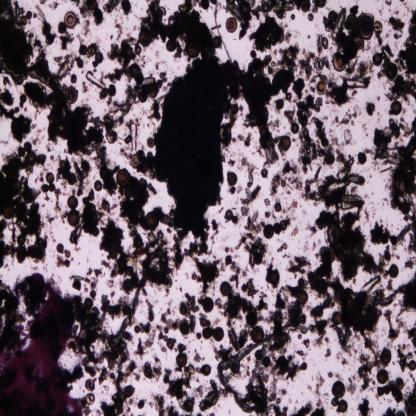Background material: (307, 211, 385, 334), (307, 259, 386, 334), (140, 0, 223, 69), (227, 54, 278, 166), (0, 147, 49, 261), (43, 77, 108, 160), (370, 118, 416, 233), (0, 0, 52, 78), (168, 204, 223, 271), (97, 213, 139, 292), (70, 296, 107, 379), (291, 95, 330, 168), (136, 232, 178, 298), (352, 328, 386, 395), (335, 28, 375, 84), (0, 278, 29, 348), (163, 361, 199, 415), (377, 274, 416, 322), (117, 174, 147, 234), (269, 42, 300, 98), (328, 128, 360, 182), (366, 214, 416, 248), (257, 369, 292, 416), (245, 14, 289, 50), (384, 272, 416, 320), (98, 378, 136, 416), (268, 160, 304, 199), (380, 378, 416, 416), (0, 104, 34, 143), (105, 39, 135, 83), (107, 82, 135, 127), (217, 294, 259, 324), (274, 292, 307, 330), (226, 0, 258, 39), (305, 164, 331, 210), (193, 259, 220, 300), (220, 242, 244, 288), (240, 234, 270, 269), (322, 70, 352, 105), (91, 159, 122, 192), (82, 187, 102, 238), (332, 326, 356, 368), (22, 81, 50, 115), (72, 155, 94, 197), (0, 240, 31, 269), (199, 381, 225, 414), (135, 323, 164, 352), (258, 0, 298, 21), (115, 342, 139, 376), (383, 307, 406, 342), (399, 34, 416, 81), (273, 356, 309, 378), (373, 33, 395, 68), (178, 289, 197, 329), (135, 146, 157, 179), (125, 217, 144, 255), (241, 185, 265, 215), (78, 0, 105, 26), (257, 290, 277, 325), (149, 392, 178, 416), (277, 276, 306, 299), (332, 104, 362, 126), (141, 354, 164, 382), (374, 384, 403, 406), (108, 291, 132, 316), (312, 373, 331, 404), (265, 330, 293, 350), (314, 319, 332, 350), (82, 267, 104, 292), (292, 400, 326, 416), (240, 155, 256, 189), (244, 211, 267, 234), (286, 256, 312, 276), (396, 342, 412, 371), (353, 396, 376, 416), (221, 118, 236, 148), (405, 317, 416, 354), (55, 157, 71, 182), (303, 50, 316, 80), (149, 98, 163, 125), (283, 200, 298, 224), (42, 22, 56, 46), (385, 88, 406, 103), (70, 224, 83, 248), (77, 19, 90, 43), (293, 78, 307, 100), (100, 196, 117, 214), (159, 304, 176, 322), (0, 88, 15, 108), (391, 18, 403, 42), (230, 362, 246, 380), (361, 98, 377, 116), (60, 32, 74, 51), (143, 302, 156, 322), (103, 0, 120, 15), (232, 233, 246, 251), (35, 166, 49, 184), (54, 187, 63, 214), (315, 32, 326, 54), (112, 21, 126, 38), (403, 256, 416, 274), (0, 218, 10, 240), (347, 378, 358, 398), (192, 345, 204, 363), (209, 217, 220, 235), (85, 378, 98, 393), (284, 107, 295, 124), (120, 0, 131, 17), (244, 128, 253, 148), (195, 384, 206, 400), (277, 242, 290, 255), (329, 368, 343, 380), (118, 148, 133, 159), (306, 220, 317, 234), (246, 288, 260, 299), (58, 209, 68, 224), (348, 1, 360, 13), (149, 182, 158, 198), (14, 1, 24, 15), (127, 33, 138, 45), (48, 0, 61, 10), (107, 83, 116, 97), (44, 212, 54, 224), (100, 258, 110, 270), (292, 224, 300, 238), (409, 8, 416, 24), (324, 56, 331, 71), (2, 76, 12, 86), (228, 157, 238, 167), (11, 228, 17, 244), (63, 258, 72, 268), (324, 348, 332, 359), (228, 185, 236, 196), (286, 32, 292, 45), (135, 44, 142, 55), (195, 330, 202, 341), (162, 288, 171, 296), (68, 0, 80, 6), (44, 192, 52, 201), (382, 0, 392, 7), (60, 179, 67, 189), (139, 400, 146, 410), (50, 231, 56, 242), (46, 144, 54, 152), (70, 74, 78, 82), (82, 80, 87, 92), (155, 62, 161, 72), (32, 138, 39, 146), (92, 61, 100, 68), (26, 10, 32, 19), (38, 0, 48, 5), (30, 122, 37, 129), (134, 12, 140, 20), (140, 110, 146, 118), (50, 155, 56, 163), (328, 371, 333, 379), (71, 188, 76, 196), (91, 68, 99, 73), (40, 222, 46, 228), (411, 375, 415, 383), (108, 32, 112, 40), (57, 153, 61, 161), (33, 12, 38, 18), (41, 202, 46, 208), (22, 107, 28, 112), (395, 13, 402, 17), (146, 122, 150, 128), (38, 131, 44, 135), (133, 26, 137, 31), (307, 34, 310, 40)
Cellulose filter fibre: (215, 320, 312, 416)
Diatom: (54, 53, 74, 80), (331, 7, 347, 38), (358, 13, 376, 39), (125, 122, 140, 152), (322, 180, 347, 198), (86, 72, 106, 90), (144, 210, 161, 231), (362, 274, 381, 292), (332, 52, 347, 72), (114, 168, 130, 186), (346, 78, 366, 92), (186, 40, 202, 57), (251, 325, 266, 343), (65, 85, 79, 104), (375, 368, 390, 385), (138, 29, 153, 46), (331, 381, 346, 398), (202, 296, 216, 314), (34, 2, 46, 22), (244, 311, 260, 326), (64, 10, 78, 27), (68, 208, 81, 226), (380, 349, 393, 367), (228, 330, 239, 351), (138, 75, 157, 87), (346, 13, 358, 31), (225, 17, 238, 33), (128, 62, 142, 76), (219, 281, 232, 296), (262, 224, 275, 239), (25, 152, 37, 168), (3, 203, 14, 220), (298, 289, 310, 304), (390, 100, 402, 115), (347, 174, 365, 184), (330, 311, 342, 326), (213, 327, 225, 342), (280, 135, 291, 151), (57, 20, 68, 36), (226, 170, 238, 184), (371, 52, 383, 66), (176, 352, 188, 366), (386, 64, 398, 78), (316, 80, 328, 94), (323, 152, 335, 166), (84, 392, 95, 407), (270, 269, 281, 284), (300, 0, 312, 13), (86, 42, 97, 56), (138, 89, 149, 103), (84, 297, 95, 311), (179, 321, 190, 335), (67, 196, 78, 210), (338, 400, 349, 414), (103, 116, 114, 130), (201, 326, 212, 340), (388, 263, 398, 278), (107, 131, 119, 143), (313, 58, 324, 71), (200, 242, 210, 256), (153, 94, 164, 106), (357, 152, 368, 164), (230, 103, 240, 116), (166, 39, 176, 52), (95, 51, 105, 64), (394, 377, 404, 390), (22, 52, 31, 66), (202, 364, 212, 376), (373, 20, 383, 32), (148, 86, 158, 98), (213, 36, 223, 48), (403, 80, 413, 92), (262, 356, 272, 368), (67, 173, 76, 186), (139, 177, 148, 190), (107, 334, 116, 347), (94, 179, 103, 192), (356, 36, 364, 50), (131, 155, 140, 167), (329, 10, 338, 22), (407, 359, 416, 371), (71, 274, 84, 282), (200, 0, 210, 10), (55, 243, 65, 253), (279, 220, 289, 230), (147, 137, 156, 148), (24, 141, 33, 152), (166, 319, 175, 330), (79, 43, 88, 54), (273, 222, 281, 234), (276, 97, 284, 109), (320, 37, 328, 49), (46, 172, 54, 184), (408, 24, 416, 36), (396, 74, 404, 86), (16, 236, 26, 245), (291, 124, 300, 134), (254, 254, 262, 265), (167, 339, 175, 350), (254, 349, 262, 360), (100, 87, 108, 98), (21, 15, 30, 24), (332, 397, 340, 407), (315, 96, 323, 106), (64, 249, 72, 259), (274, 202, 282, 212), (316, 0, 327, 7), (225, 210, 232, 221), (250, 49, 258, 58), (41, 184, 49, 193), (400, 284, 407, 294), (261, 168, 268, 178), (20, 92, 26, 103), (19, 146, 25, 157), (200, 319, 208, 327), (231, 214, 239, 222), (48, 184, 56, 192), (90, 289, 97, 298), (77, 58, 83, 68), (60, 159, 66, 169), (286, 92, 293, 100), (157, 78, 162, 89), (8, 222, 14, 230), (246, 280, 252, 288), (134, 325, 140, 333), (290, 13, 296, 20), (308, 14, 314, 21), (192, 272, 196, 280), (164, 328, 169, 334), (271, 61, 276, 66), (298, 333, 302, 339)
Fragment: (158, 69, 230, 212)
Pen: (0, 274, 82, 416)
